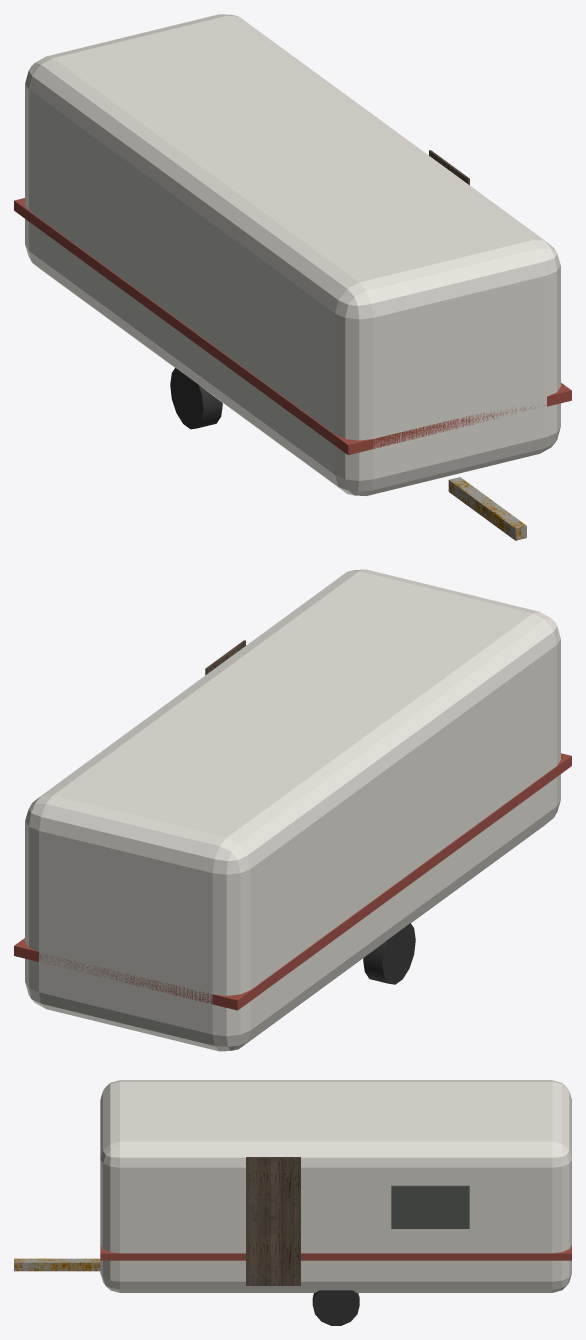
Rendered from camper.glb.
3 views of the same model, one above another, from view 1: azimuth 30°, elevation 25°; view 2: azimuth 150°, elevation 25°; view 3: azimuth 270°, elevation 25° (orthographic). The views are drawn at different scales.
Visible parts, largest first — view 1: camper; view 2: camper; view 3: camper.
Part boxes in pixels (x1=…): camper: x1=14, y1=14, x2=571, y2=540; camper: x1=14, y1=569, x2=571, y2=1051; camper: x1=14, y1=1080, x2=571, y2=1325.
Bounding box in the file's own units: 2.33 × 2.49 × 7.1.
Materials: 6 (2 with a texture image).
